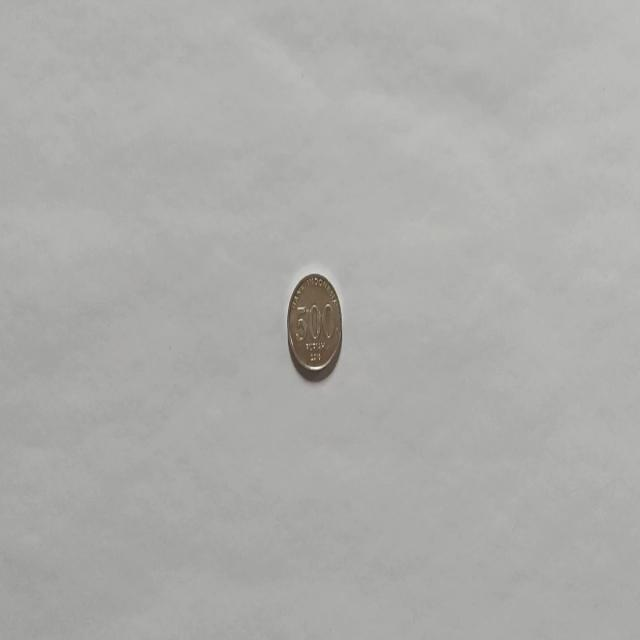lima ratus rupiah: (286, 271, 342, 381)
